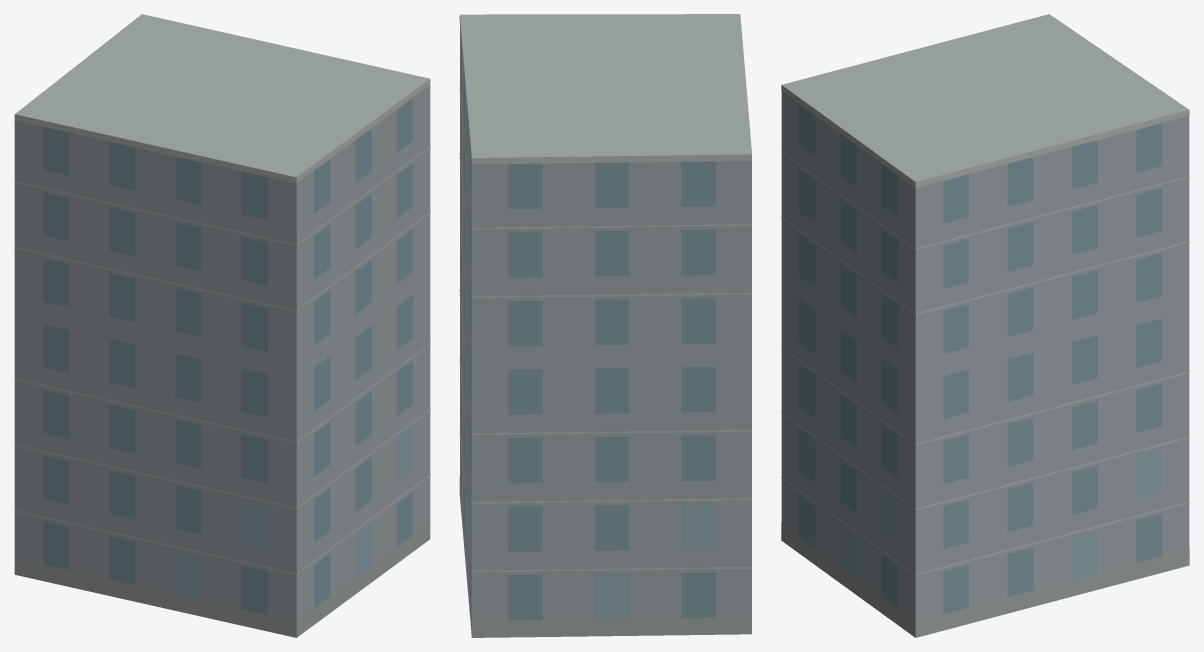
The model's file is survey-upis-32743971.glb.
The picture shows the model from 3 angles, left to right: view 1: azimuth 30°, elevation 25°; view 2: azimuth 150°, elevation 25°; view 3: azimuth 270°, elevation 25°; orthographic projection. The views are drawn at different scales.
Visible parts, largest first — view 1: survey-upis-32743971.tmp; view 2: survey-upis-32743971.tmp; view 3: survey-upis-32743971.tmp.
Part boxes in pixels (<box>): survey-upis-32743971.tmp: <box>14,14,430,637</box>; survey-upis-32743971.tmp: <box>459,14,751,637</box>; survey-upis-32743971.tmp: <box>781,14,1189,637</box>.
Size of the model in its own units: 14.41 by 18.2 by 14.78.
